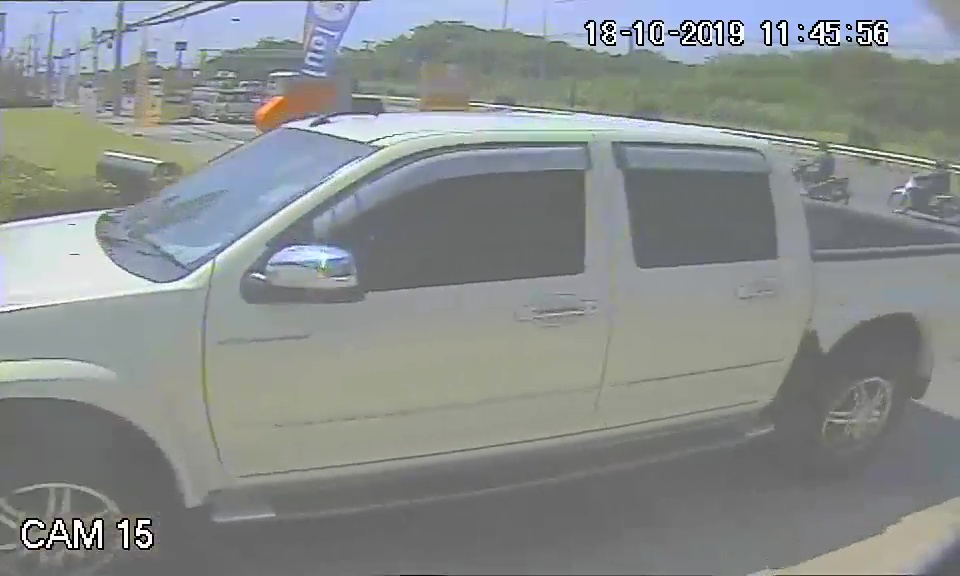pickup: (6, 105, 810, 518)
